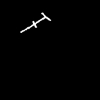double_crochet: (21, 13, 50, 32)
